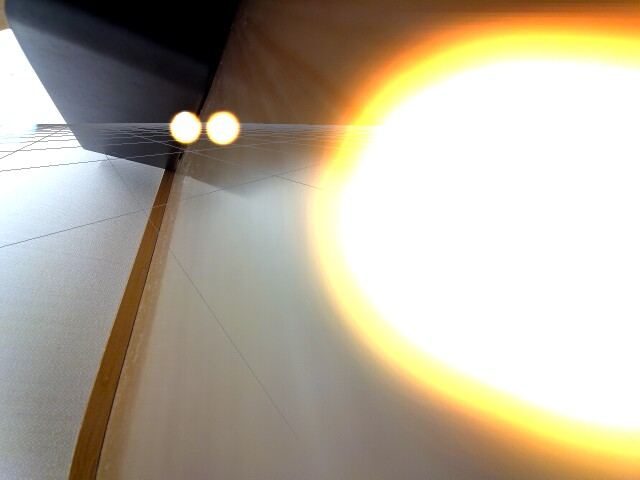firebig: (295, 17, 640, 479)
